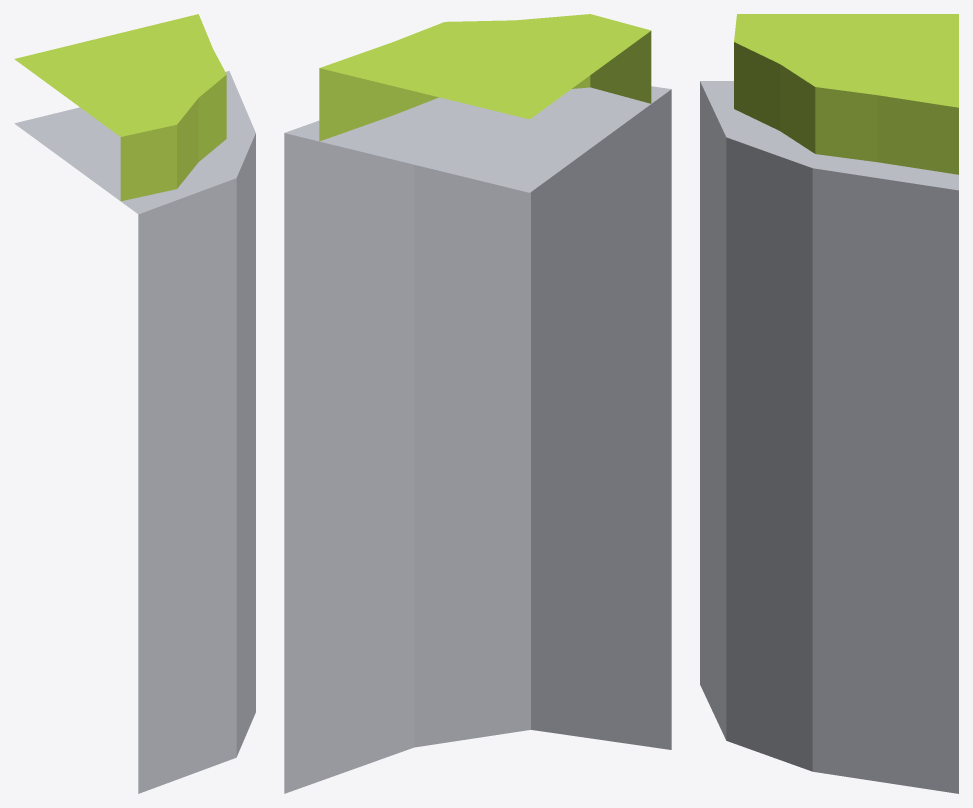
File: edge_one.gltf
3 views of the same model, side by side, from view 1: azimuth 30°, elevation 25°; view 2: azimuth 150°, elevation 25°; view 3: azimuth 270°, elevation 25° (orthographic). The views are drawn at different scales.
Visible parts, largest first — view 1: EdgeOneBot, EdgeOneTop; view 2: EdgeOneBot, EdgeOneTop; view 3: EdgeOneBot, EdgeOneTop.
Boxes of the visible parts, <box> form: EdgeOneBot: <box>14,71,255,793</box>; EdgeOneTop: <box>14,14,226,201</box>; EdgeOneBot: <box>284,86,671,793</box>; EdgeOneTop: <box>319,14,651,141</box>; EdgeOneBot: <box>700,81,958,793</box>; EdgeOneTop: <box>734,14,958,174</box>.
Bounding box in the file's own units: 0.35 × 1 × 0.35.
